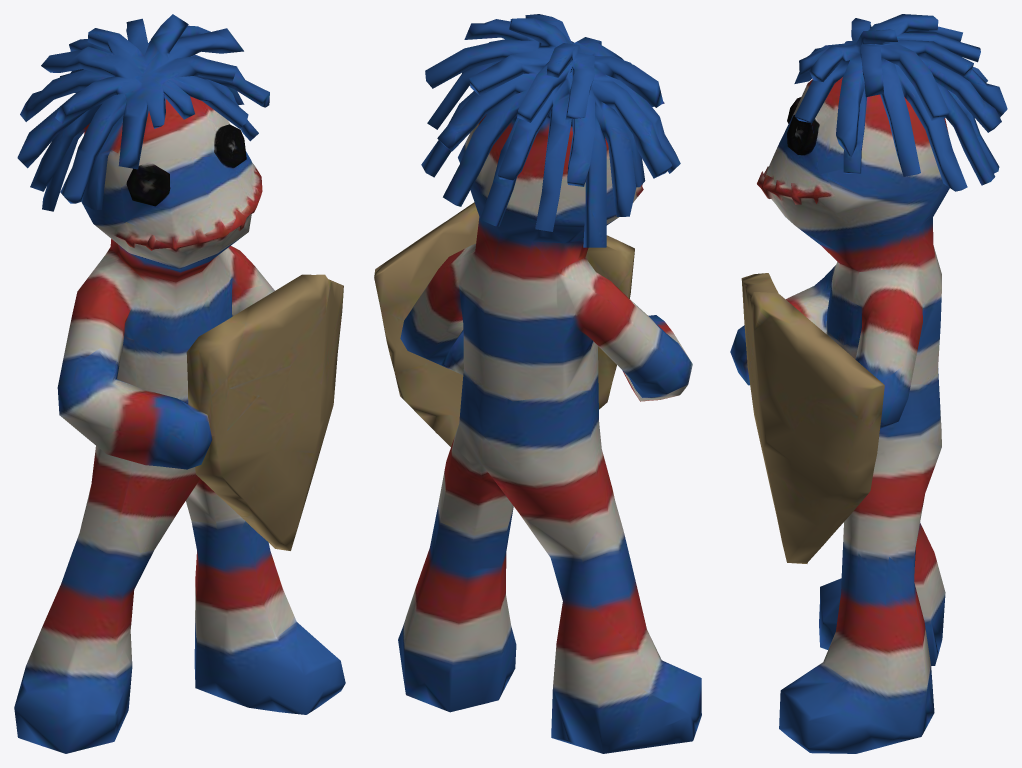
The model's file is enemy_sockpuppet.glb.
3 renders of one model, left to right at view 1: azimuth 30°, elevation 25°; view 2: azimuth 150°, elevation 25°; view 3: azimuth 270°, elevation 25°, orthographic. The views are drawn at different scales.
Visible parts, largest first — view 1: tripo_node_ac73ba7a-e9ba-4504-8d72-a632d8cff551; view 2: tripo_node_ac73ba7a-e9ba-4504-8d72-a632d8cff551; view 3: tripo_node_ac73ba7a-e9ba-4504-8d72-a632d8cff551.
Part boxes in pixels (x1,y1,x2,y2): tripo_node_ac73ba7a-e9ba-4504-8d72-a632d8cff551: [14, 14, 345, 753]; tripo_node_ac73ba7a-e9ba-4504-8d72-a632d8cff551: [374, 14, 701, 753]; tripo_node_ac73ba7a-e9ba-4504-8d72-a632d8cff551: [730, 14, 1007, 753].
Size of the model in its own units: 0.4939 by 1 by 0.3792.
1 material, 1 textured.
